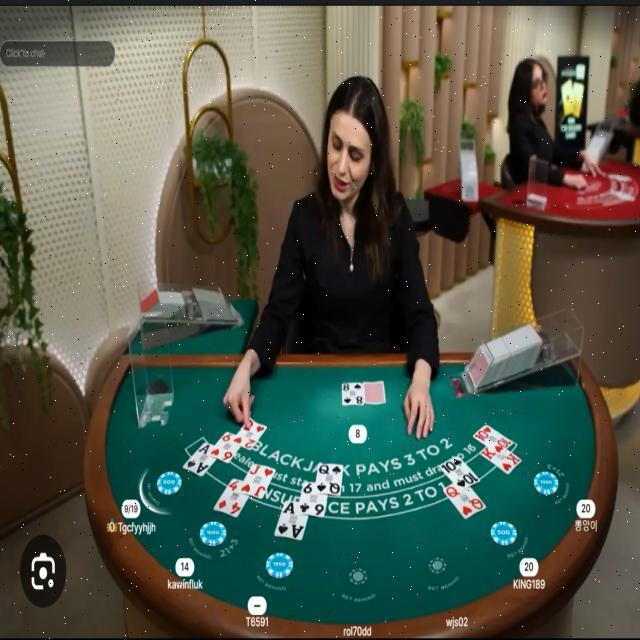Card-10: (439, 456, 480, 491), (473, 423, 513, 456)
Card-2: (237, 416, 267, 450)
Card-4: (214, 478, 249, 517)
Card-6: (210, 431, 244, 463), (297, 482, 327, 517)
Card-8: (342, 382, 364, 405)
Card-A: (274, 500, 308, 539), (183, 442, 216, 476)
Card-J: (238, 464, 276, 498)
Card-K: (480, 446, 522, 474)
Card-Q: (443, 482, 486, 519), (314, 463, 343, 494)
